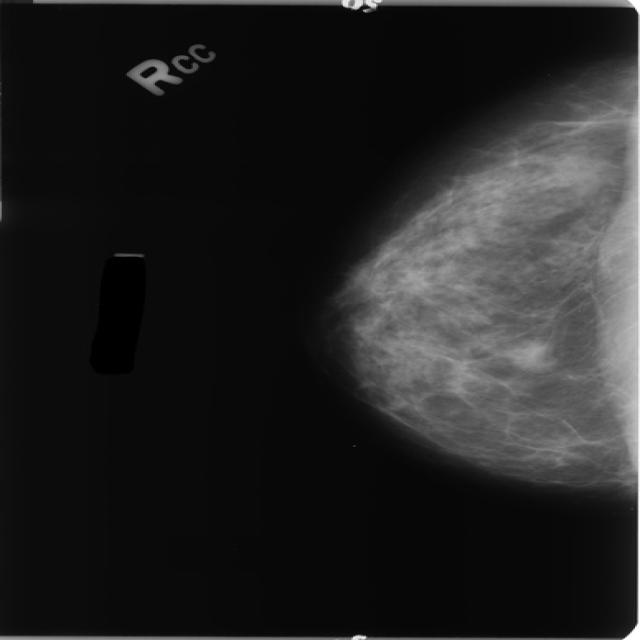tumour: (506, 338, 556, 372)
